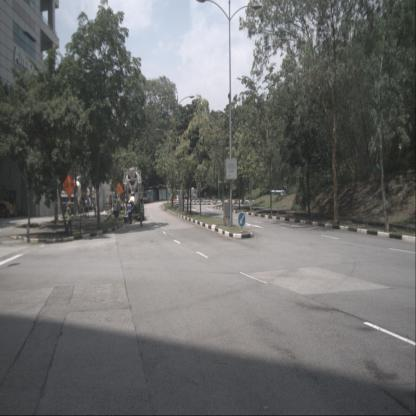barrier: (176, 194, 180, 200), (173, 195, 177, 200)
